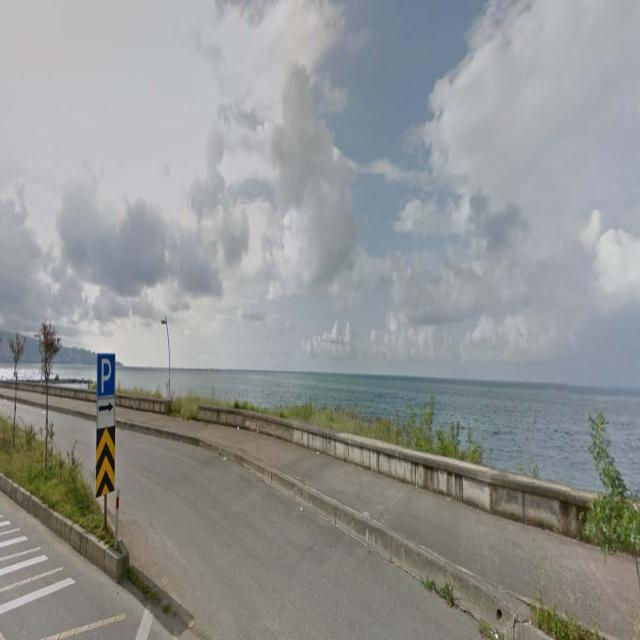park: (97, 356, 115, 396)
